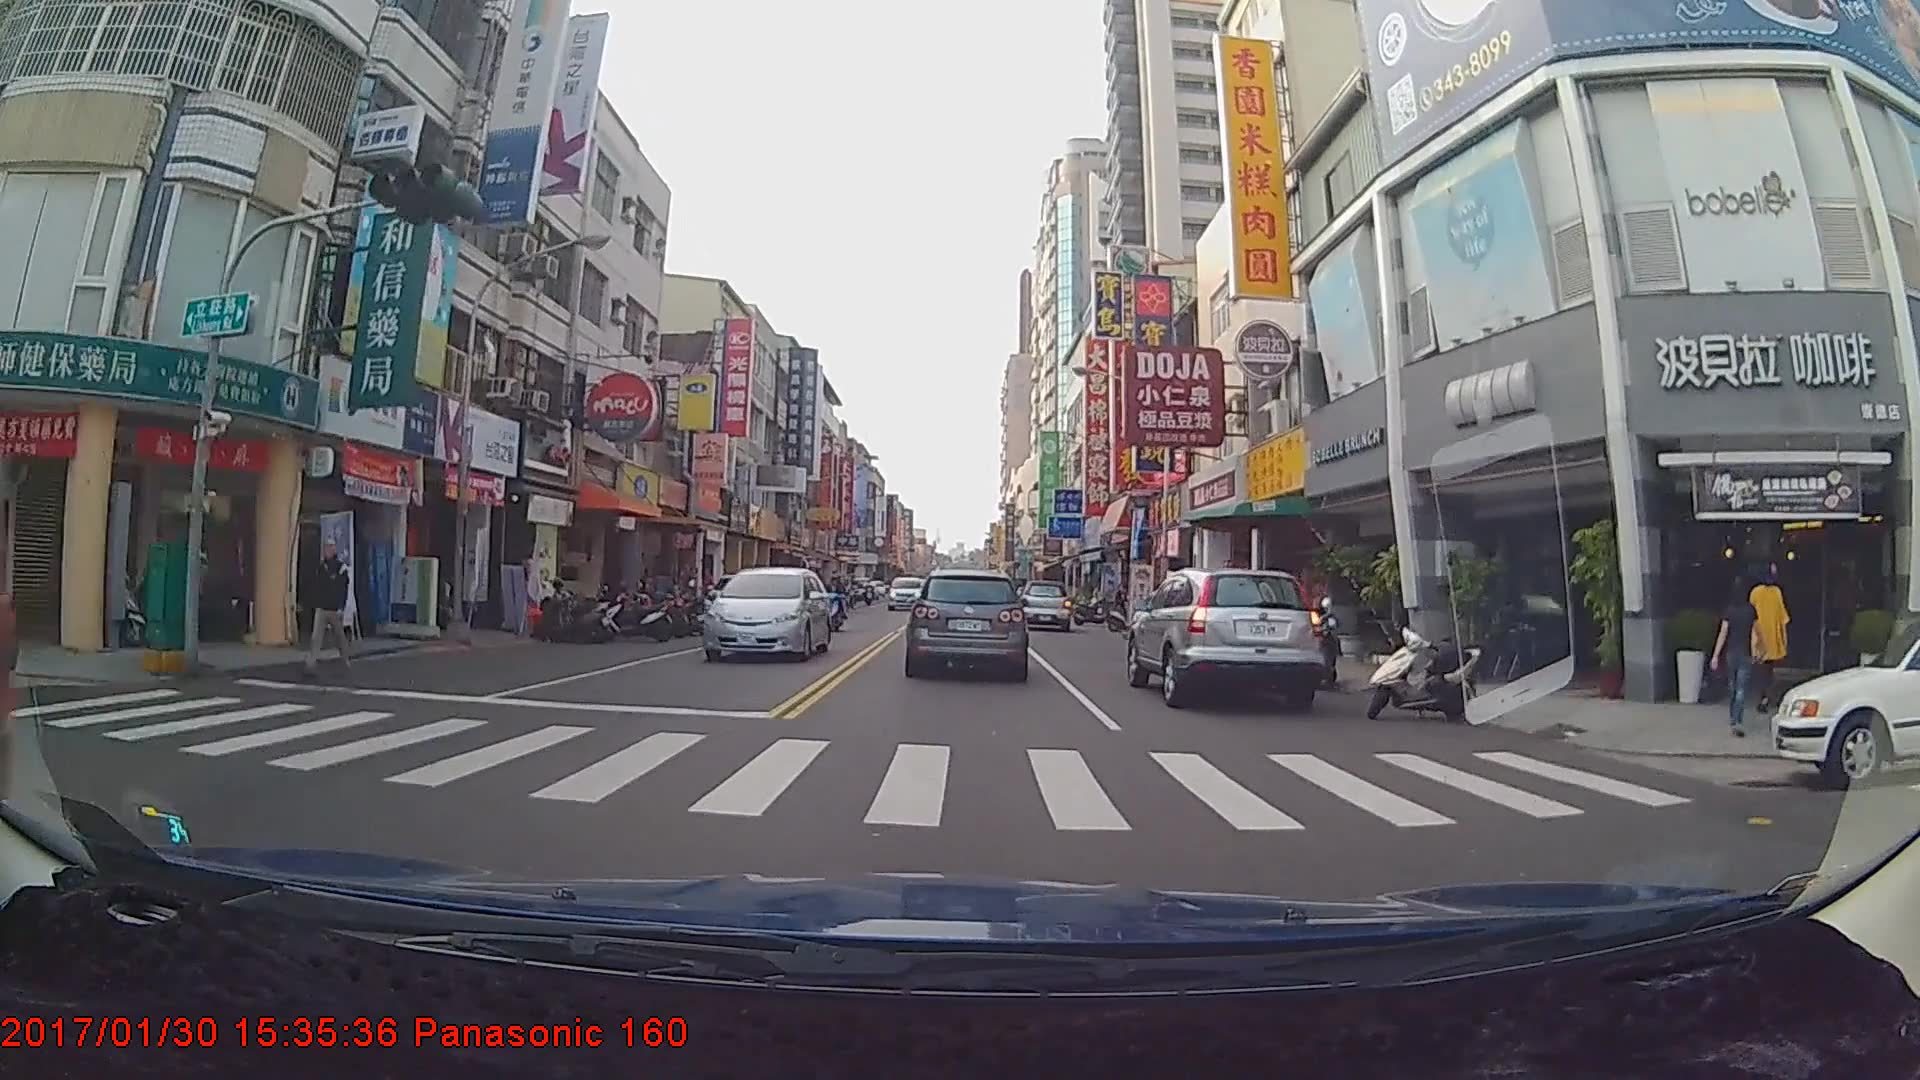pedestrian: (1712, 576, 1765, 739), (301, 536, 357, 676), (1746, 567, 1794, 711)
vehicle: (1125, 565, 1324, 710), (1768, 607, 1920, 793), (906, 566, 1026, 676), (702, 565, 835, 663), (1015, 579, 1069, 630), (885, 575, 926, 612)
